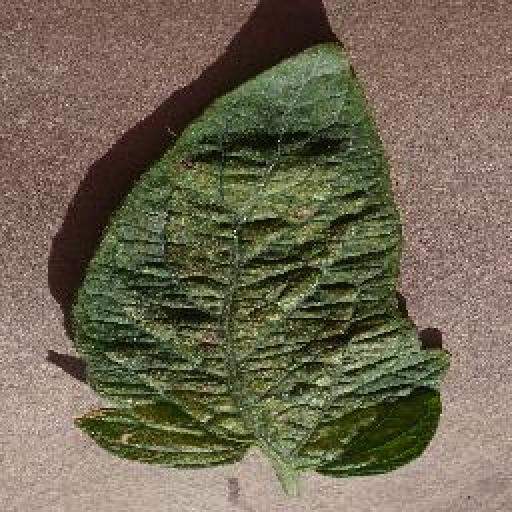disease_tomato: (74, 40, 452, 478)
